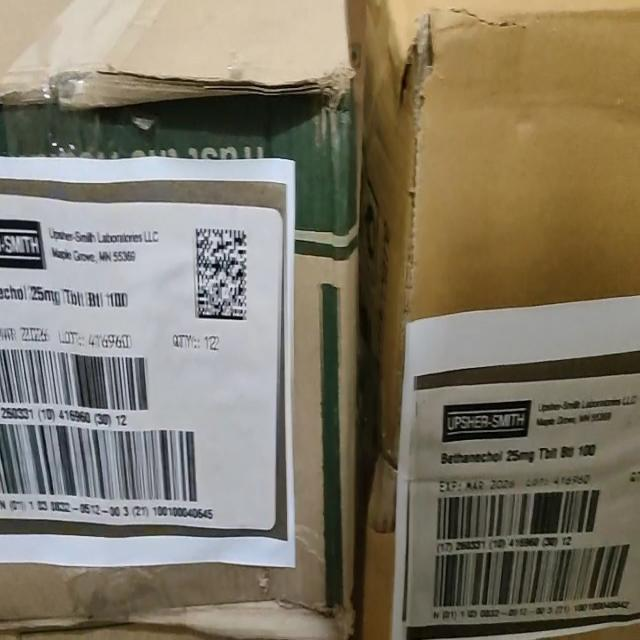BoxFace: (1, 51, 362, 640), (360, 2, 638, 636)
